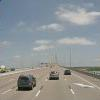Car: (44, 68, 75, 82)
